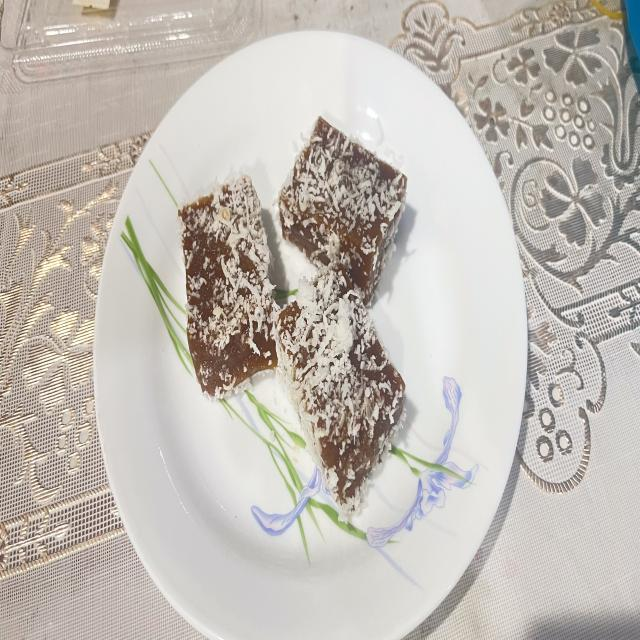kaswi: (275, 269, 405, 513), (279, 118, 406, 304), (179, 176, 276, 398)
